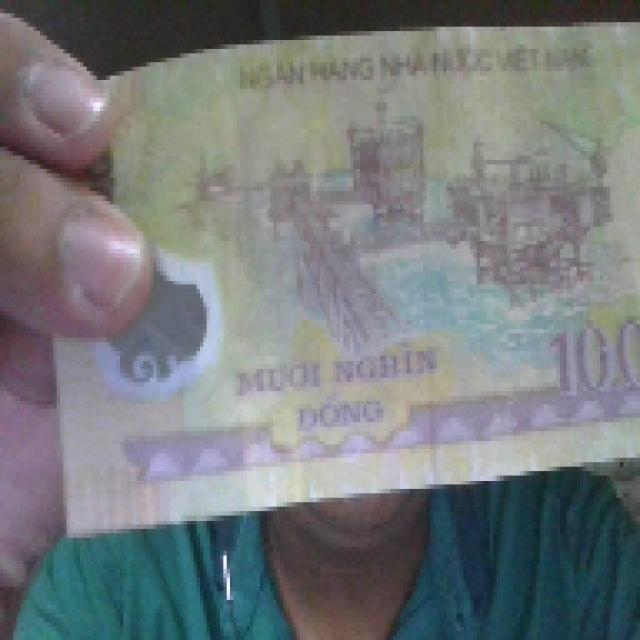10 000 VND: (46, 13, 636, 538)
